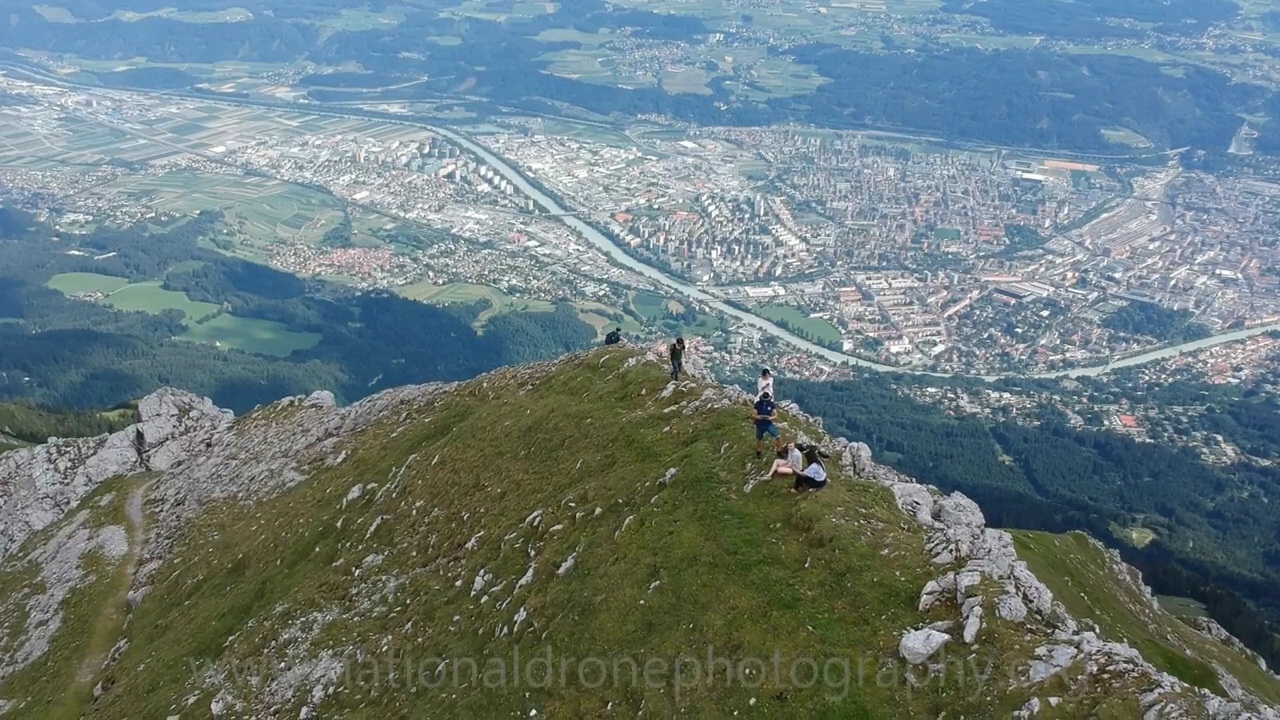insan: (748, 389, 779, 456), (790, 447, 826, 496), (665, 334, 689, 384), (761, 439, 794, 474), (606, 322, 622, 345)
